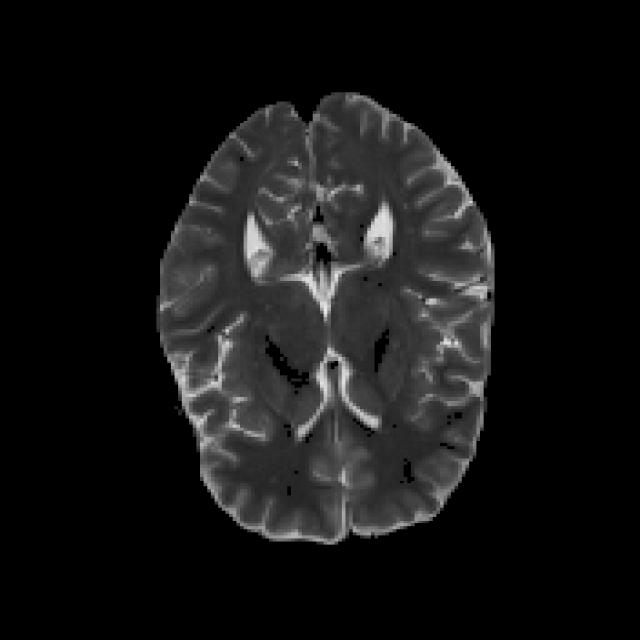parkinson: (152, 89, 494, 545)
